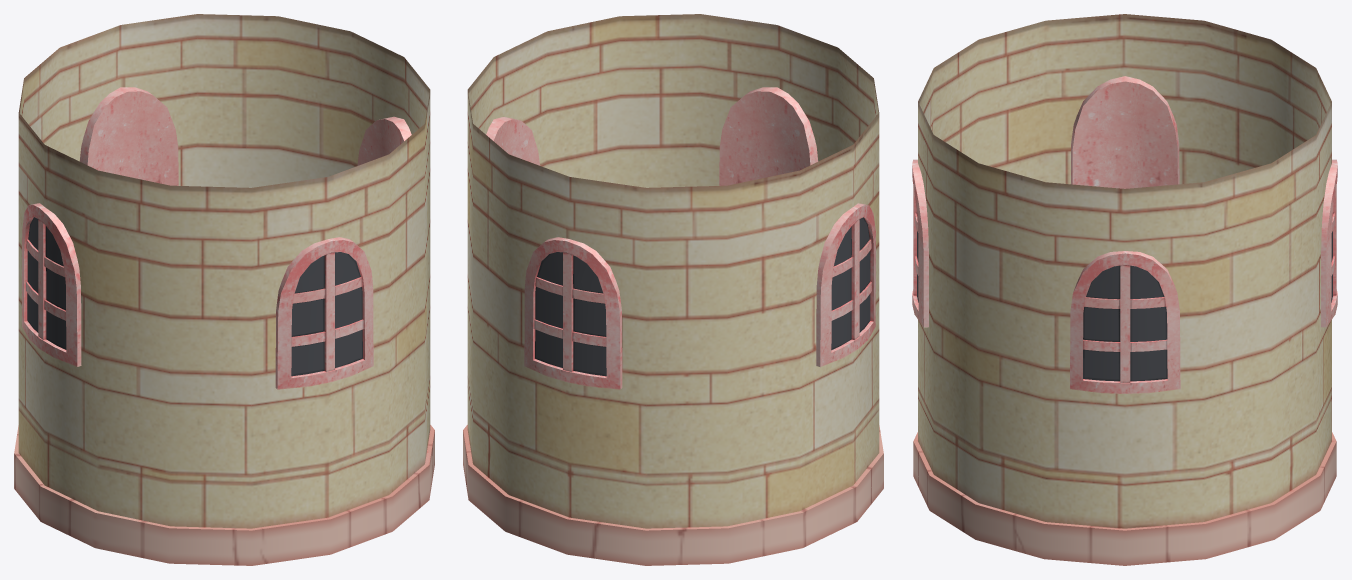
The model's file is sb_obj_outdoor024_PrincessCastle01_CircleWall02.fbx.
3 views of the same model, side by side, from view 1: azimuth 30°, elevation 25°; view 2: azimuth 150°, elevation 25°; view 3: azimuth 270°, elevation 25° (orthographic).
Visible parts, largest first — view 1: sb_obj_outdoor024_PrincessCastle01_CircleWall02; view 2: sb_obj_outdoor024_PrincessCastle01_CircleWall02; view 3: sb_obj_outdoor024_PrincessCastle01_CircleWall02.
Boxes of the visible parts, x1,y1,x2,y2 form: sb_obj_outdoor024_PrincessCastle01_CircleWall02: (14,14,434,565); sb_obj_outdoor024_PrincessCastle01_CircleWall02: (463,14,883,565); sb_obj_outdoor024_PrincessCastle01_CircleWall02: (912,14,1337,565).
Bounding box in the file's own units: 3.08 × 3 × 3.08.
